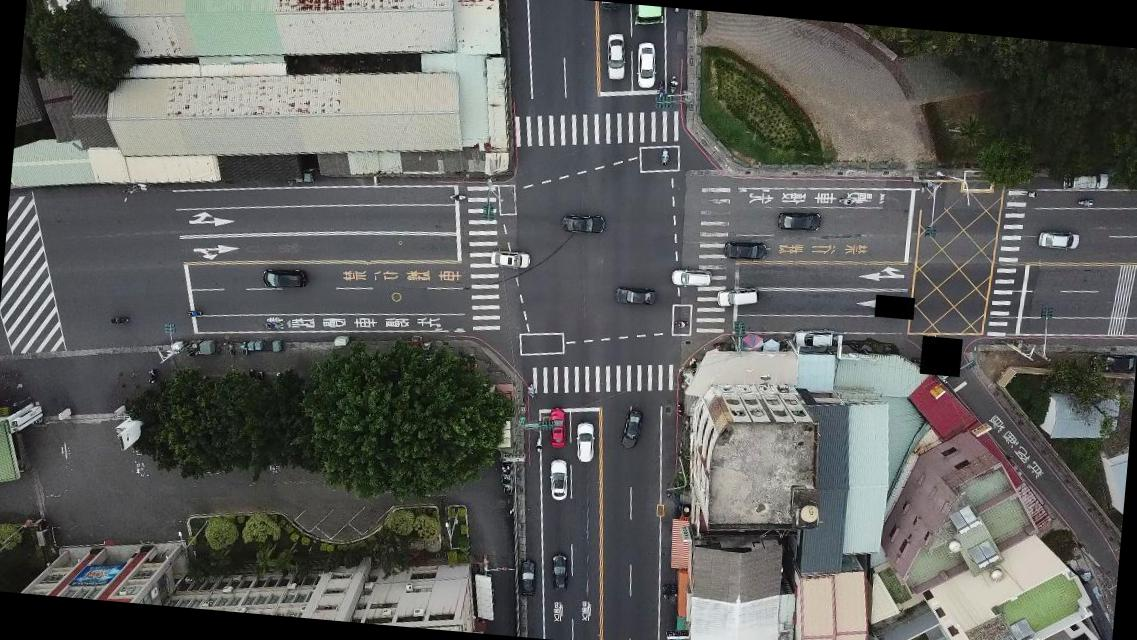vehicle: (602, 30, 628, 81), (776, 208, 822, 235), (1090, 350, 1136, 376), (632, 40, 656, 89), (1062, 170, 1110, 194), (260, 267, 308, 291), (560, 213, 606, 237), (790, 327, 834, 352), (714, 284, 756, 310), (1036, 228, 1080, 252), (722, 239, 767, 262), (546, 456, 569, 501), (669, 266, 712, 290), (612, 286, 657, 308), (573, 421, 596, 464), (546, 407, 568, 449), (514, 558, 536, 600), (488, 249, 530, 270), (620, 410, 641, 450), (548, 554, 570, 592)
